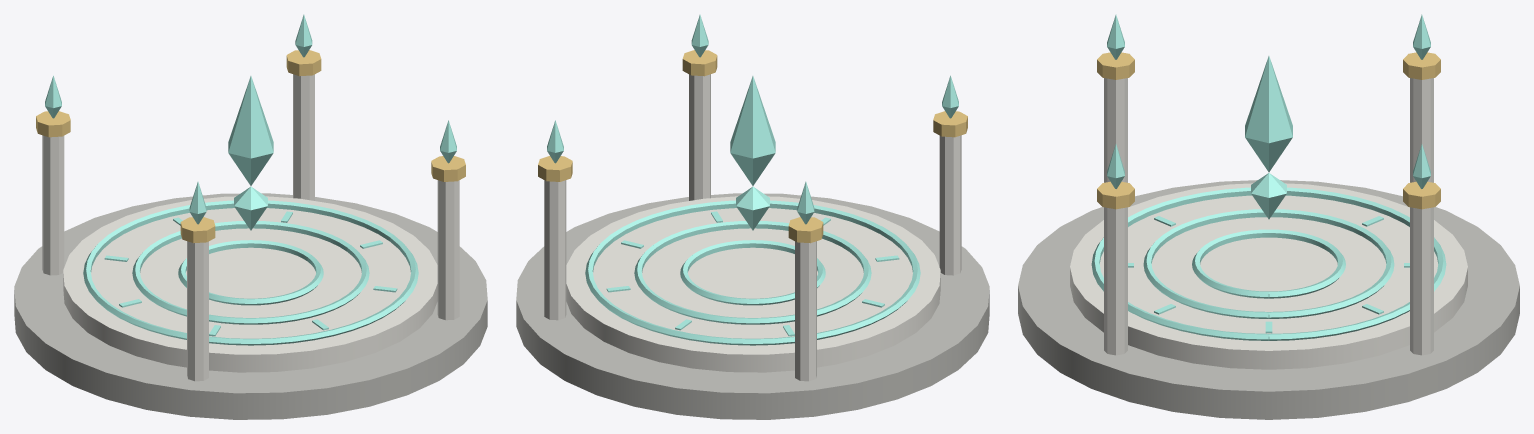
Rendered from SonMon_meditation.fbx.
The picture shows the model from 3 angles, left to right: view 1: azimuth 30°, elevation 25°; view 2: azimuth 150°, elevation 25°; view 3: azimuth 270°, elevation 25°; orthographic projection. The views are drawn at different scales.
Parts seen in each view (by area): view 1: meditation; view 2: meditation; view 3: meditation.
Boxes of the visible parts, x1,y1,x2,y2 form: meditation: [14, 14, 487, 419]; meditation: [516, 14, 989, 419]; meditation: [1018, 14, 1519, 419].
Bounding box in the file's own units: 2.9 × 1.65 × 2.9.
